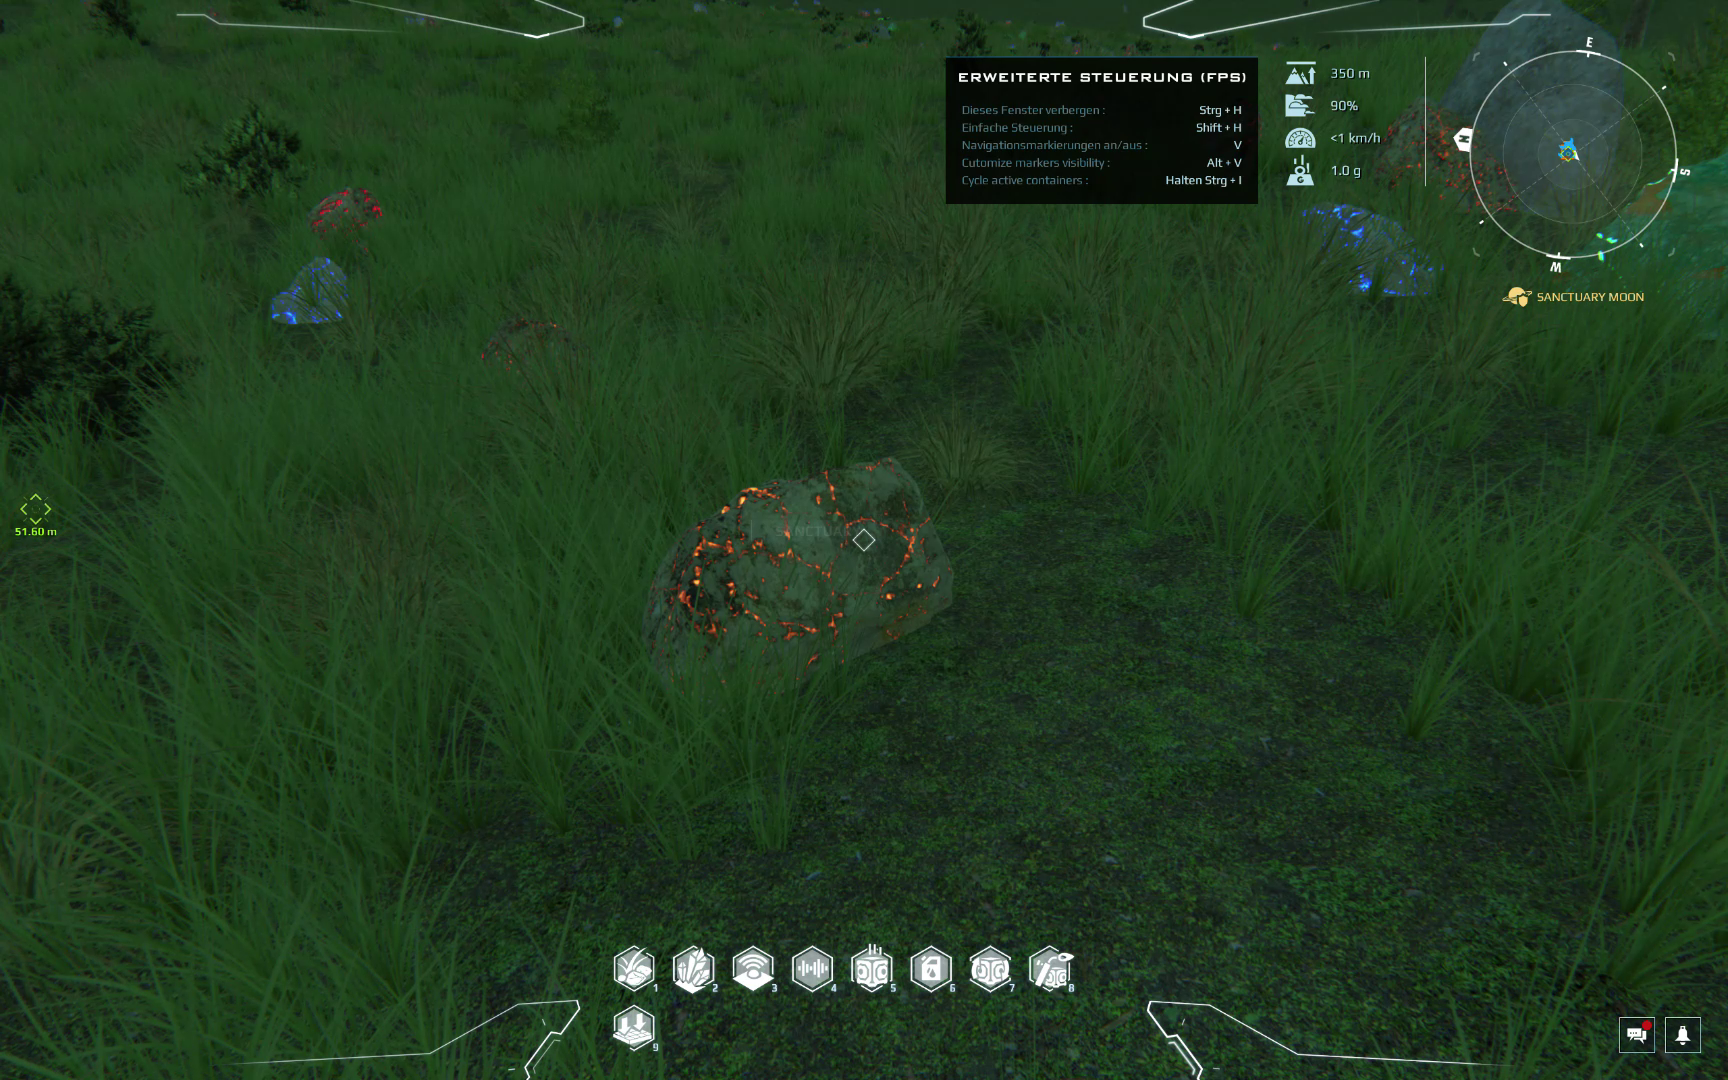Ore: (639, 450, 957, 691), (1587, 153, 1728, 340), (1373, 105, 1533, 221), (1300, 198, 1451, 305), (260, 255, 360, 330), (479, 316, 587, 379), (309, 179, 384, 233)
